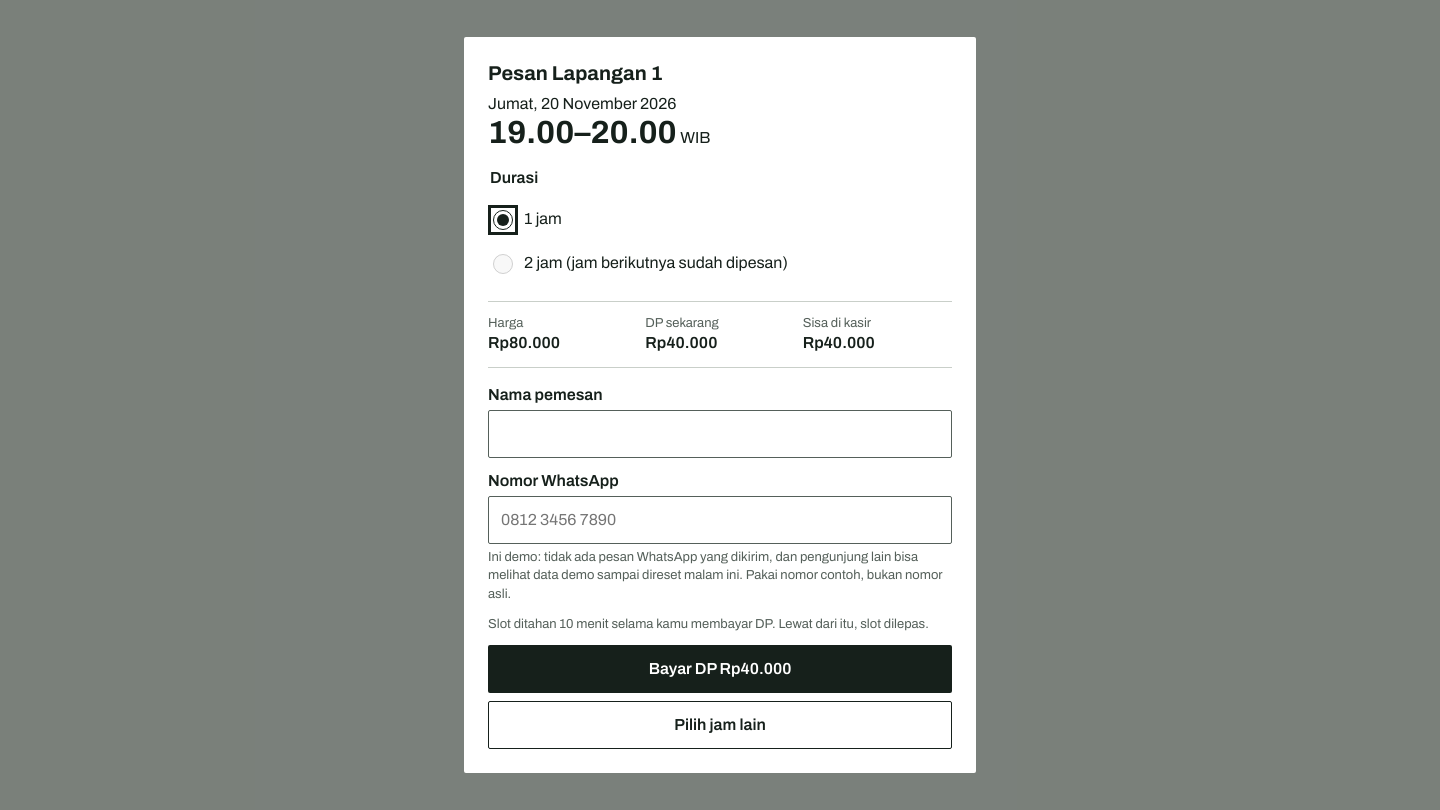
it: BookingDialog › asks for a name and an Indonesian WhatsApp number before holding the slot
Type "A" into the field labelled "Nama pemesan" at (720, 434), box 488,410 -> 952,458
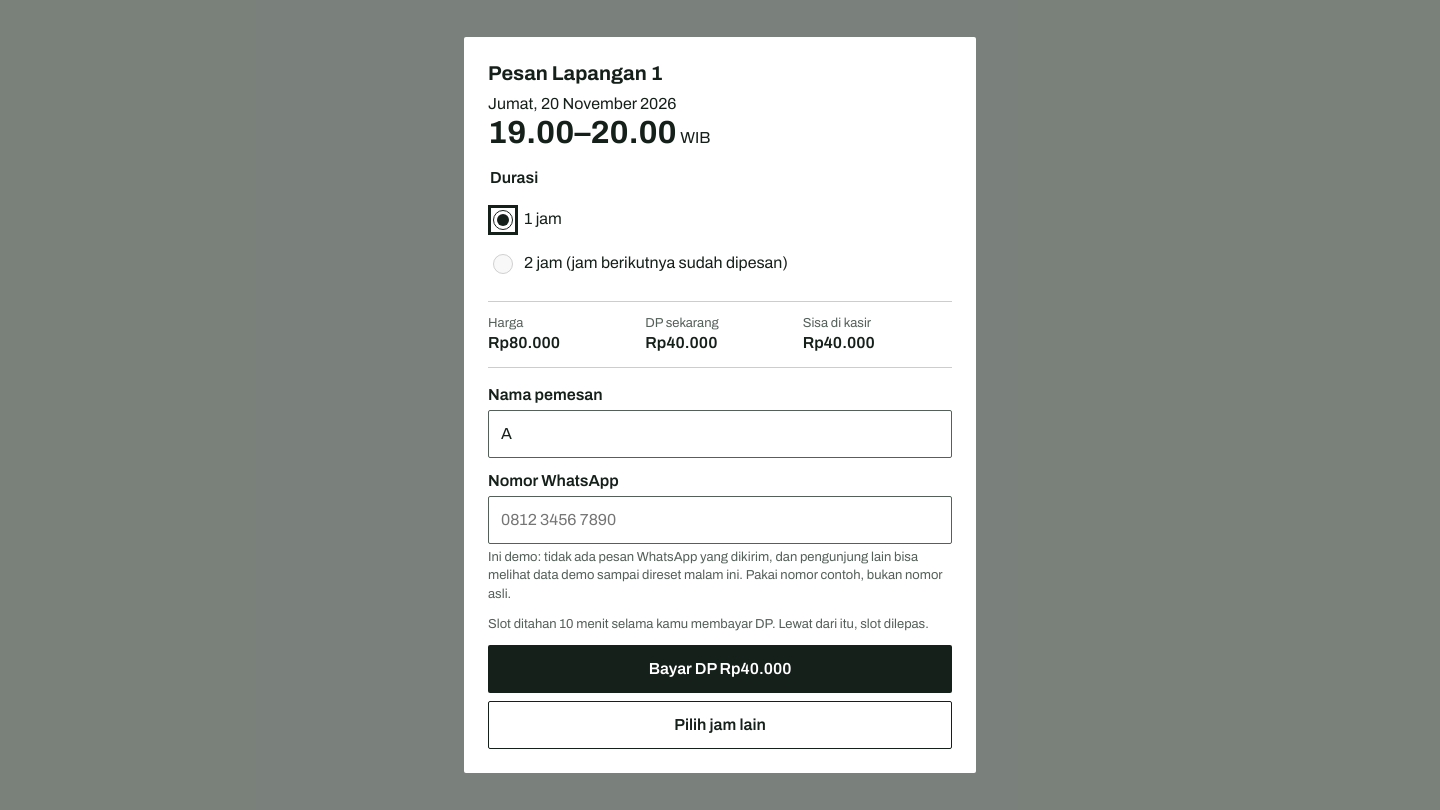
Type "12345" into the field labelled "Nomor WhatsApp" at (720, 520), box 488,496 -> 952,544
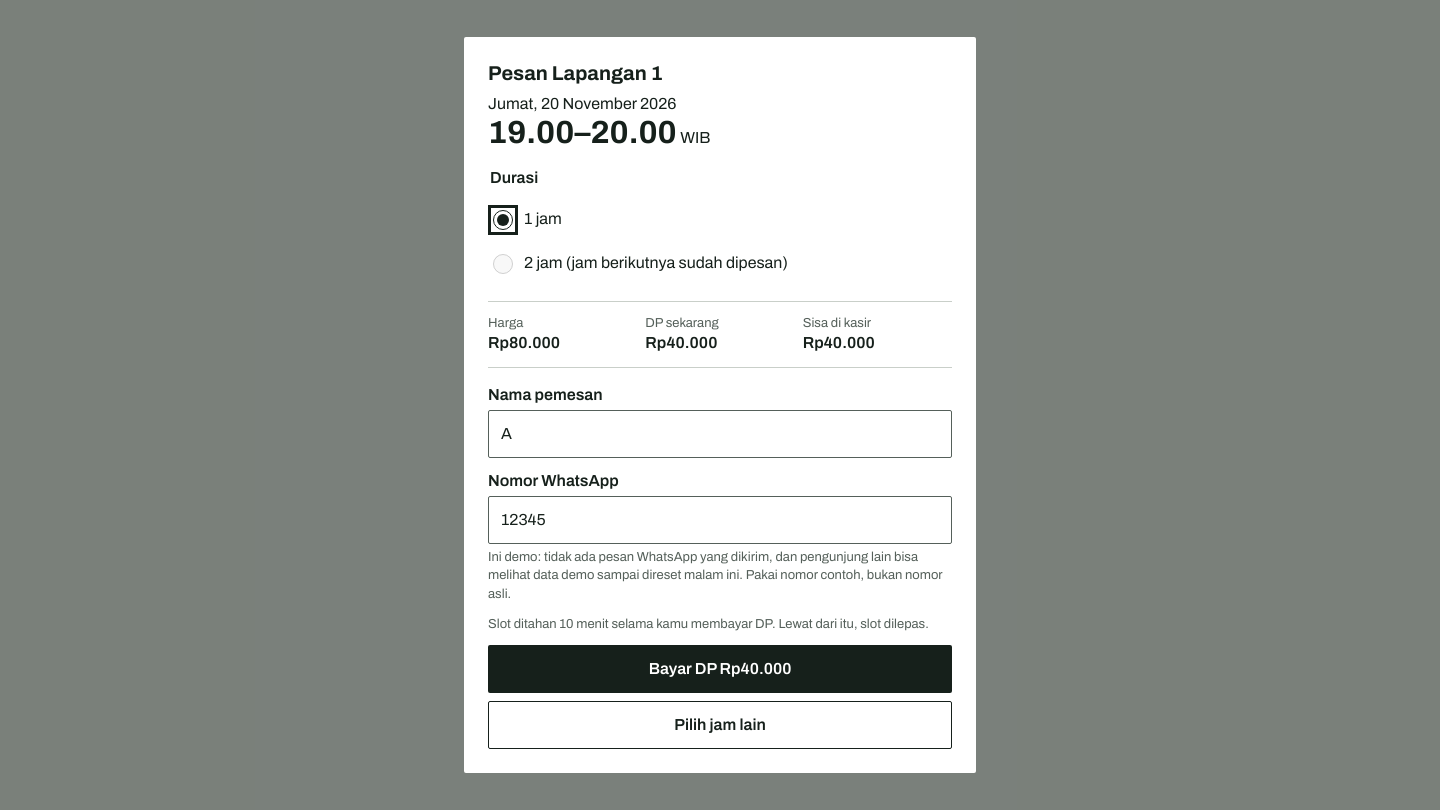
Click the button "Bayar DP Rp40.000" at (720, 669), box 488,645 -> 952,693
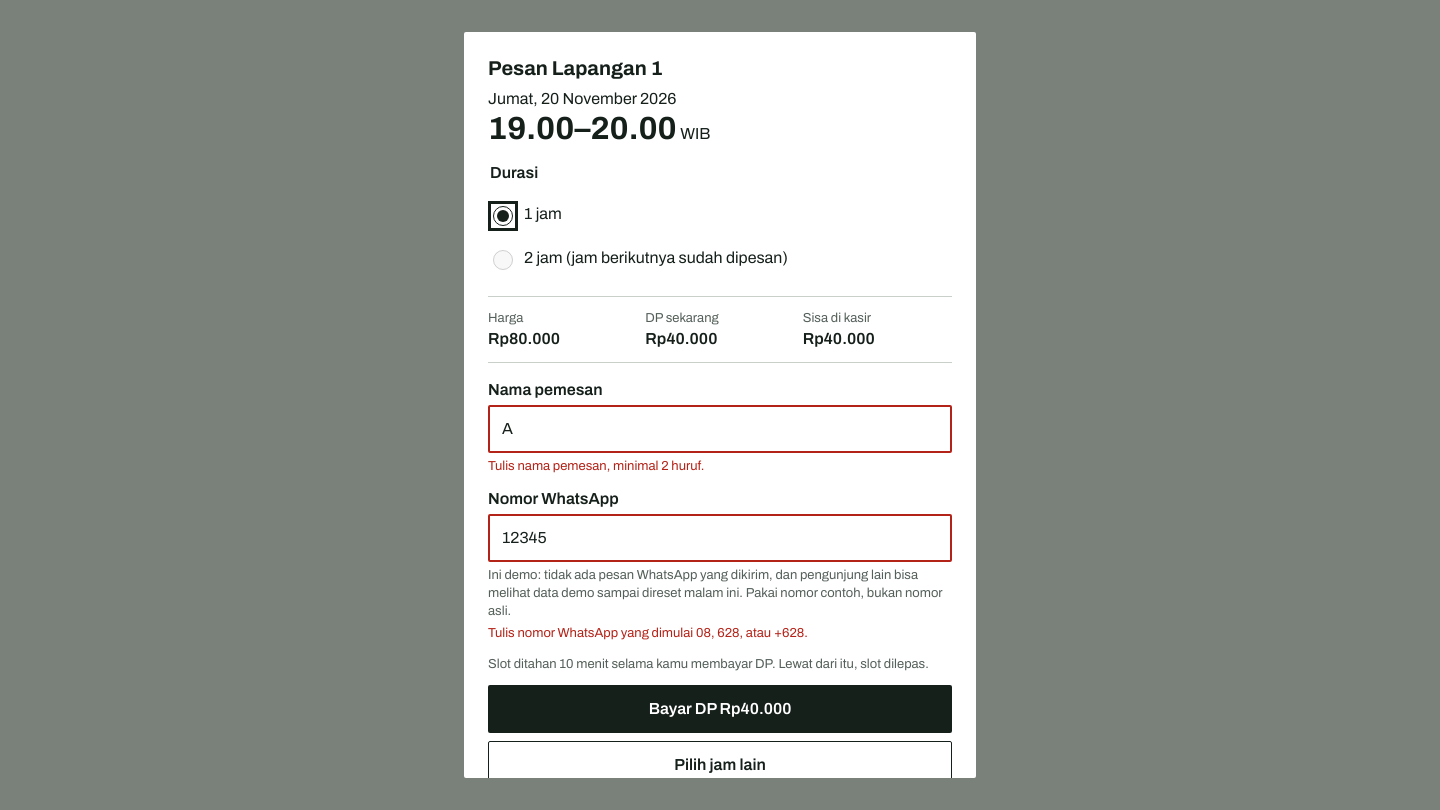
expect the button "Bayar DP Rp40.000" is shown: met, box 488,685 -> 952,733
expect the text "Tulis nama pemesan, minimal 2 huruf." is shown: met, box 488,459 -> 704,473
expect the text "Tulis nomor WhatsApp yang dimulai 08, 628, atau +628." is shown: met, box 488,626 -> 808,640
